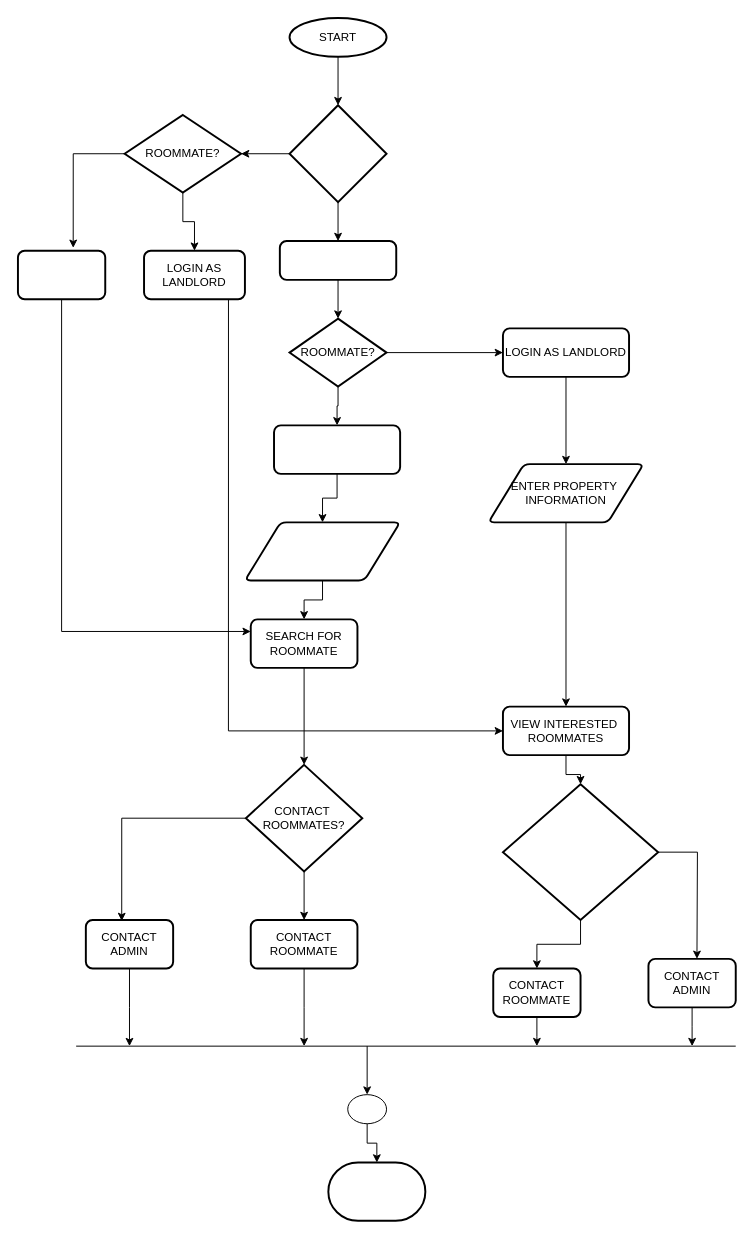
Some shapes in this 754 by 1238 pixel diagram are drawn without their labels. Here are the shapes that lost their labels. From the top down, the centre of each, then its label:
At point 337,153: "HAVE AN ACCOUNT?".
At point 61,274: "LOGIN AS ROOMMATE".
At point 337,260: "SIGN UP".
At point 337,449: "LOGIN AS ROOMATE".
At point 322,551: "ENTER PROFILE INFORMATION".
At point 580,852: "CONTACT INTERESTED ROOMMATES?".
At point 376,1191: "STOP".
